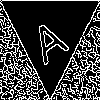A: (25, 8, 70, 65)
